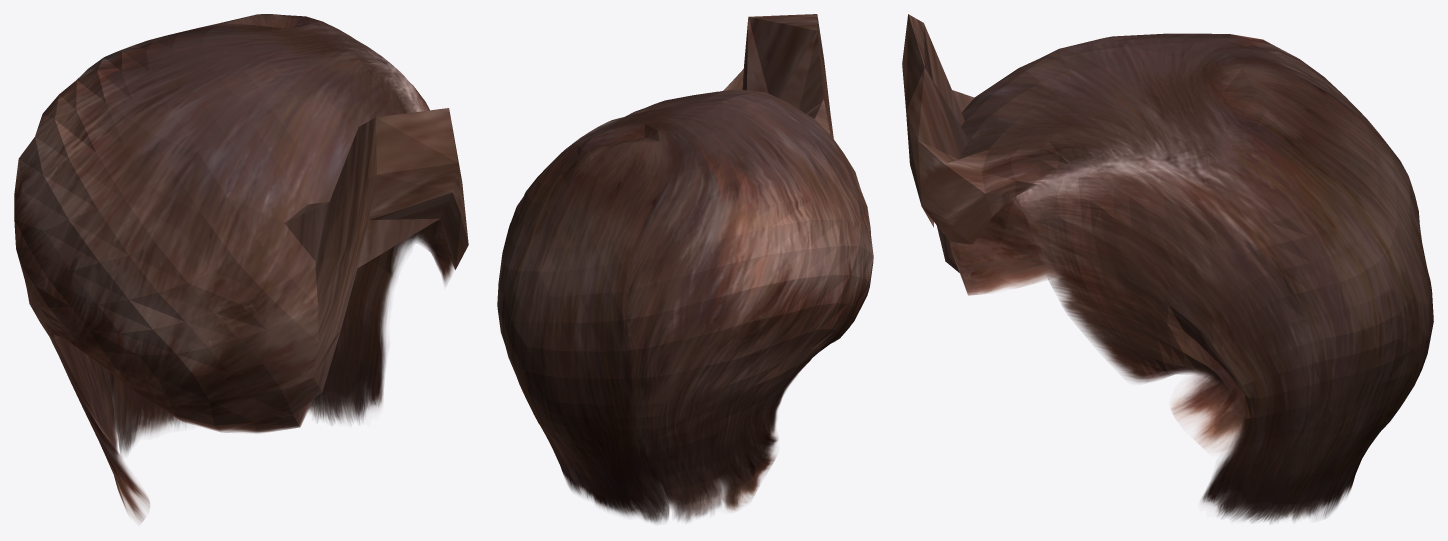
The model's file is curtain-bangs-cc0.glb.
3 views of the same model, side by side, from view 1: azimuth 30°, elevation 25°; view 2: azimuth 150°, elevation 25°; view 3: azimuth 270°, elevation 25° (orthographic). The views are drawn at different scales.
Visible parts, largest first — view 1: Node; view 2: Node; view 3: Node.
Part boxes in pixels (<box>): Node: <box>14,14,468,523</box>; Node: <box>497,14,873,523</box>; Node: <box>902,14,1433,523</box>.
Size of the model in its own units: 1.71 by 2.15 by 2.16.
1 material, 1 textured.
